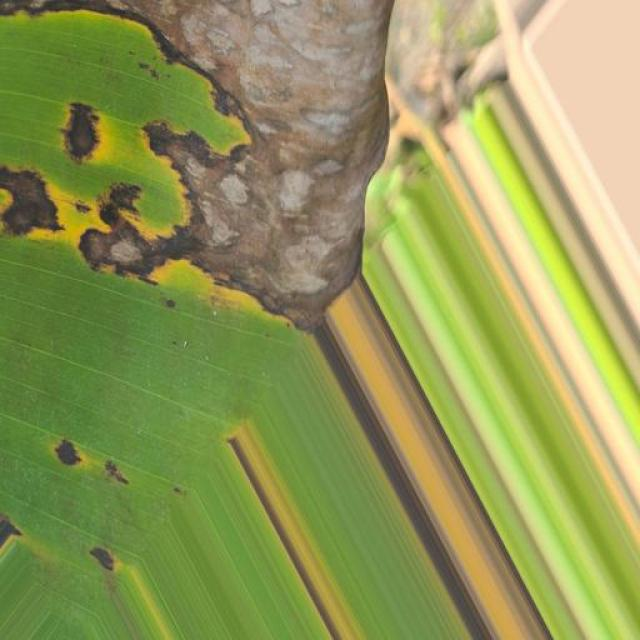Early_rust: (0, 0, 402, 610)
